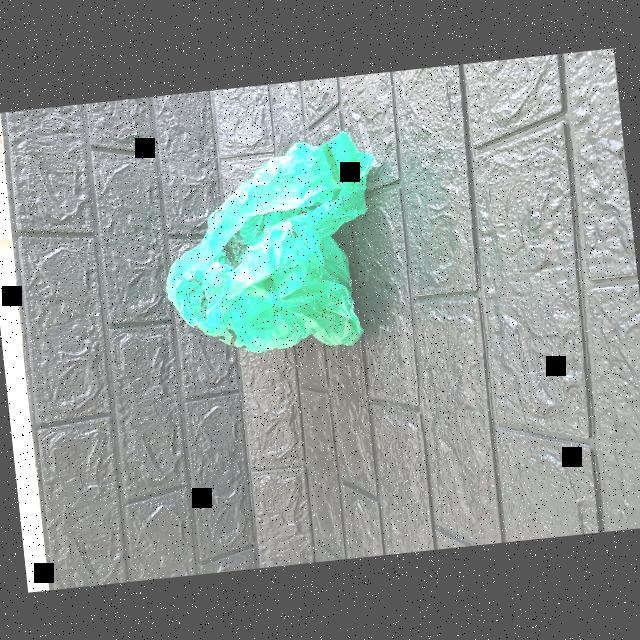plastic_bag: (142, 126, 406, 388)
